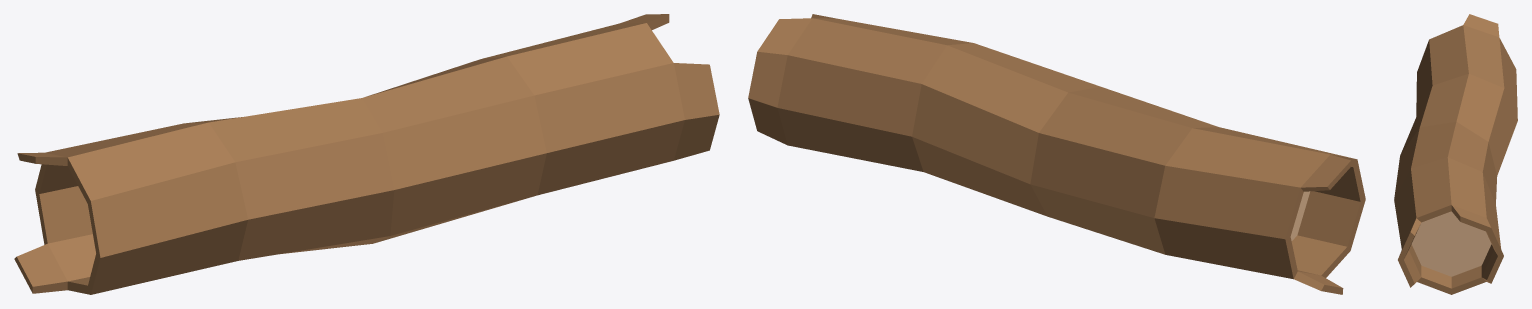
Rendered from Pine_Log_06.fbx.
3 views of the same model, side by side, from view 1: azimuth 30°, elevation 25°; view 2: azimuth 150°, elevation 25°; view 3: azimuth 270°, elevation 25° (orthographic). The views are drawn at different scales.
Parts seen in each view (by area): view 1: Pine_Log_06; view 2: Pine_Log_06; view 3: Pine_Log_06.
Part boxes in pixels (<box>): Pine_Log_06: <box>14,14,719,294</box>; Pine_Log_06: <box>748,14,1365,294</box>; Pine_Log_06: <box>1394,14,1517,294</box>.
Bounding box in the file's own units: 186 × 42.33 × 48.81.
